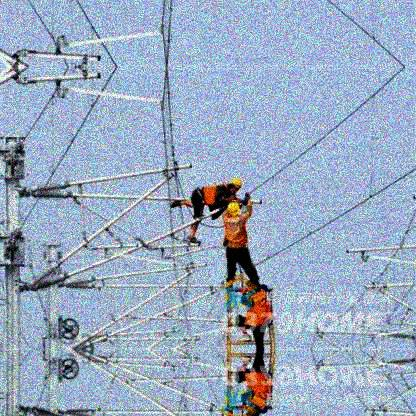helmet: (226, 176, 242, 194), (228, 202, 242, 218), (245, 279, 258, 292)
